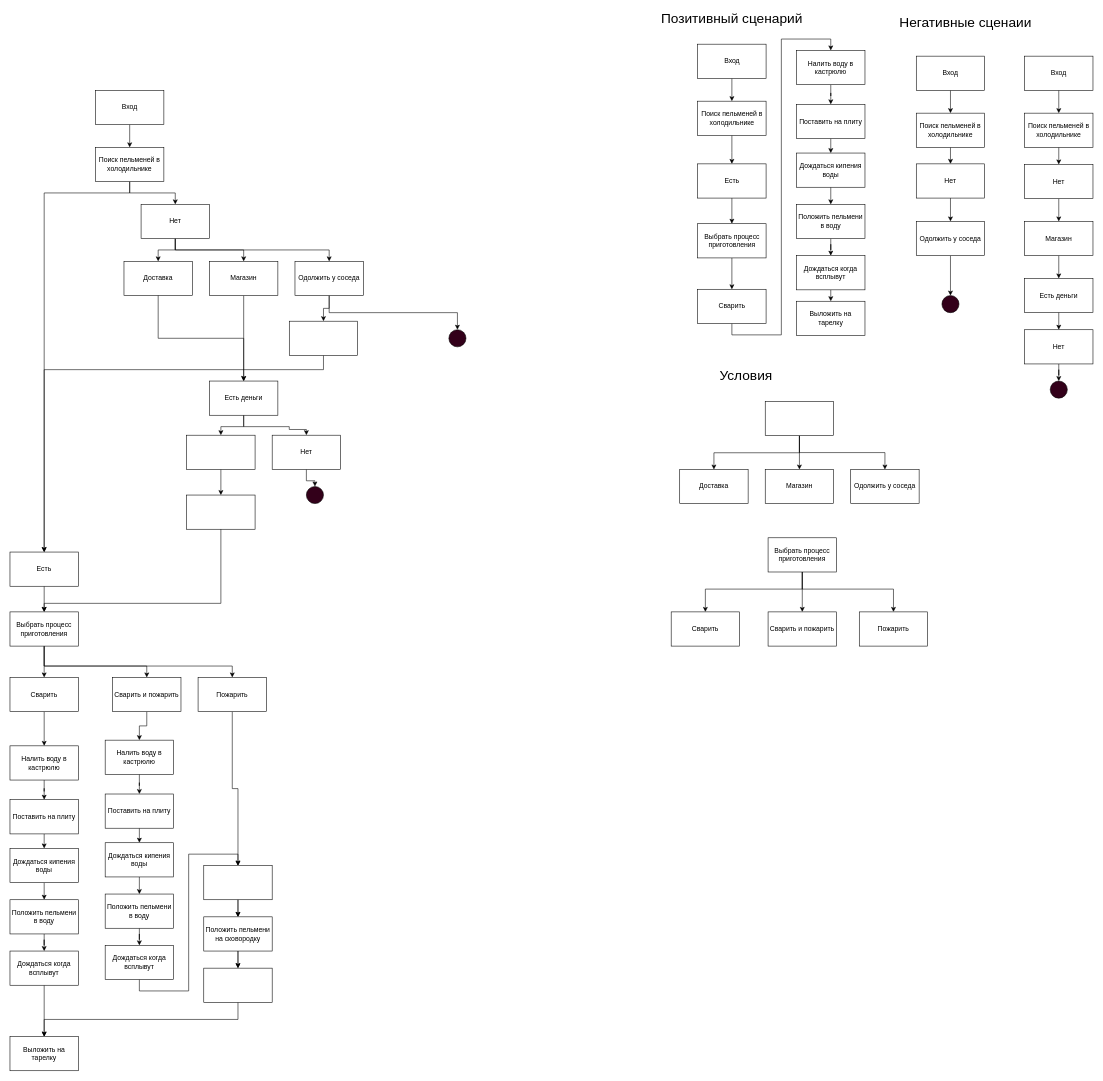
Some shapes in this 1103 by 1081 pixel diagram are drawn without their labels. Each missing label, with the centre of its shape:
"Где купить?" belongs at (x=799, y=418).
"Да" belongs at (x=220, y=452).
"Ждать 10 минут" belongs at (x=237, y=985).
"Купить" belongs at (x=220, y=511).
"Одолжил" belongs at (x=323, y=338).
"Поставить сковородку на плиту" belongs at (x=237, y=882).
